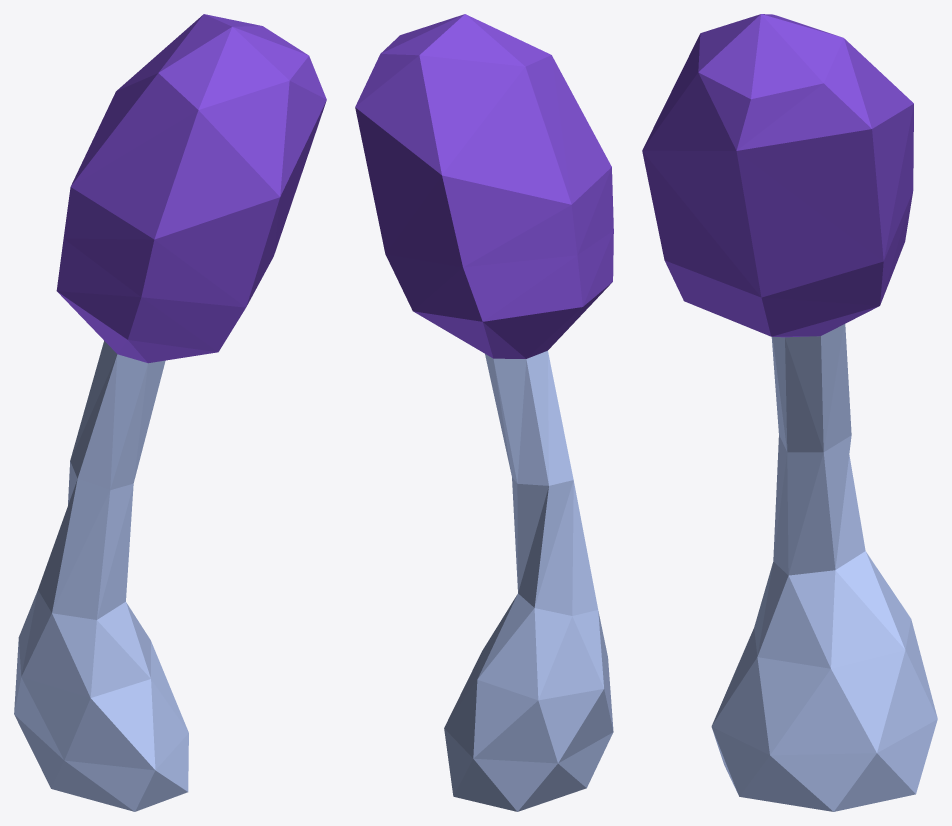
The model's file is Mushroom 1_3.fbx.
3 renders of one model, left to right at view 1: azimuth 30°, elevation 25°; view 2: azimuth 150°, elevation 25°; view 3: azimuth 270°, elevation 25°, orthographic. The views are drawn at different scales.
Parts seen in each view (by area): view 1: Mushroom 1_3; view 2: Mushroom 1_3; view 3: Mushroom 1_3.
Part boxes in pixels (<box>): Mushroom 1_3: <box>14,14,326,811</box>; Mushroom 1_3: <box>355,14,613,811</box>; Mushroom 1_3: <box>642,14,937,811</box>.
Bounding box in the file's own units: 0.0802 × 0.219 × 0.0723.
